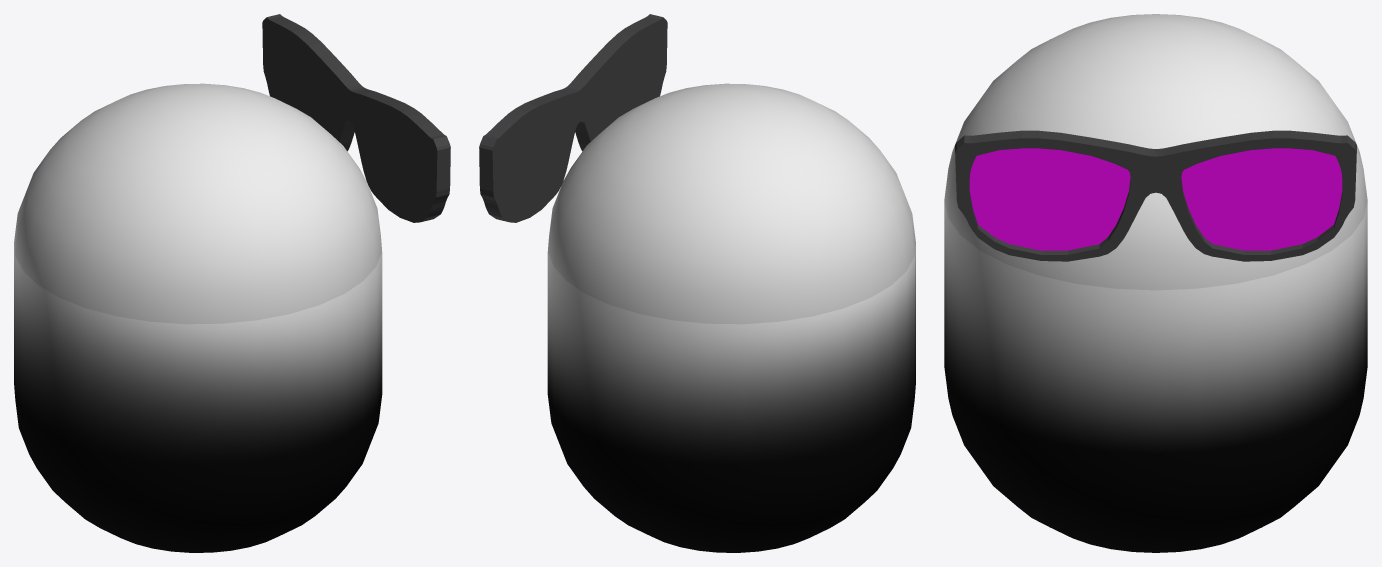
Rendered from PillIdle2.fbx.
3 renders of one model, left to right at view 1: azimuth 30°, elevation 25°; view 2: azimuth 150°, elevation 25°; view 3: azimuth 270°, elevation 25°, orthographic. The views are drawn at different scales.
Parts seen in each view (by area): view 1: Pill, Glasses; view 2: Pill, Glasses; view 3: Pill, Glasses.
Part boxes in pixels (bbox=[...]): Pill: bbox=[14, 83, 382, 552]; Glasses: bbox=[262, 14, 450, 222]; Pill: bbox=[547, 83, 915, 552]; Glasses: bbox=[479, 14, 667, 222]; Pill: bbox=[944, 14, 1367, 552]; Glasses: bbox=[955, 130, 1356, 261].
Bounding box in the file's own units: 213 × 271 × 210.
